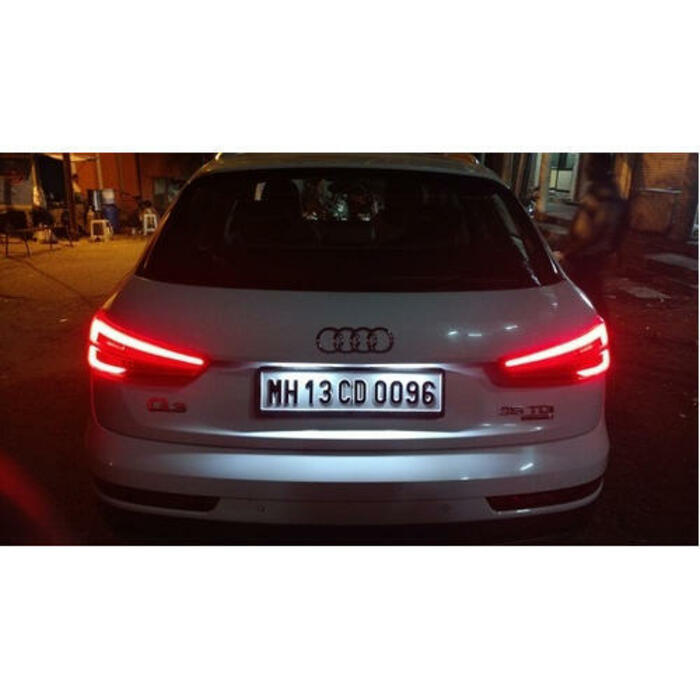n: (242, 360, 465, 426)
